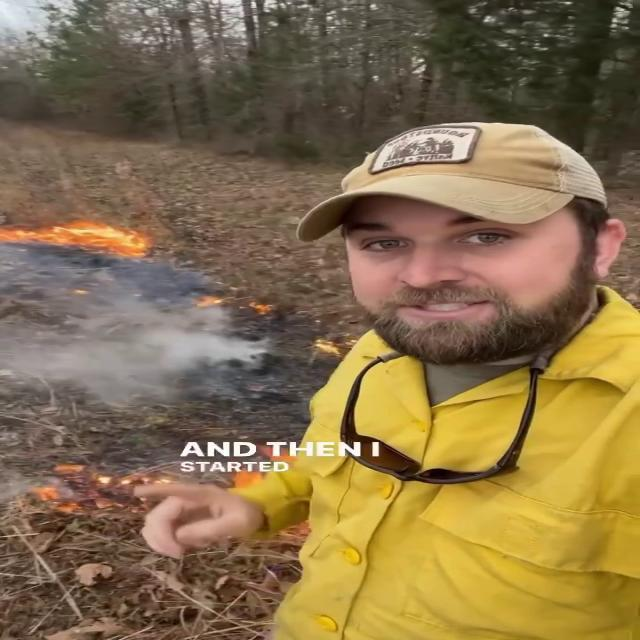Fire: (2, 210, 158, 268)
Smoke: (1, 254, 292, 426)
